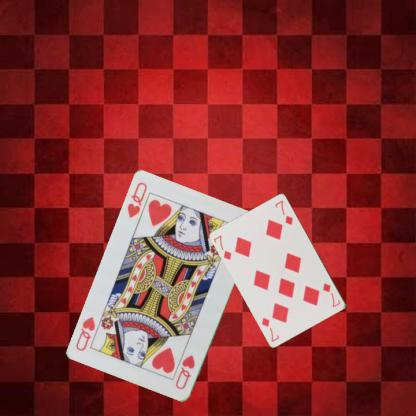7d: (320, 280, 342, 309), (211, 233, 233, 261)
Qh: (125, 180, 148, 220), (173, 353, 196, 391)
